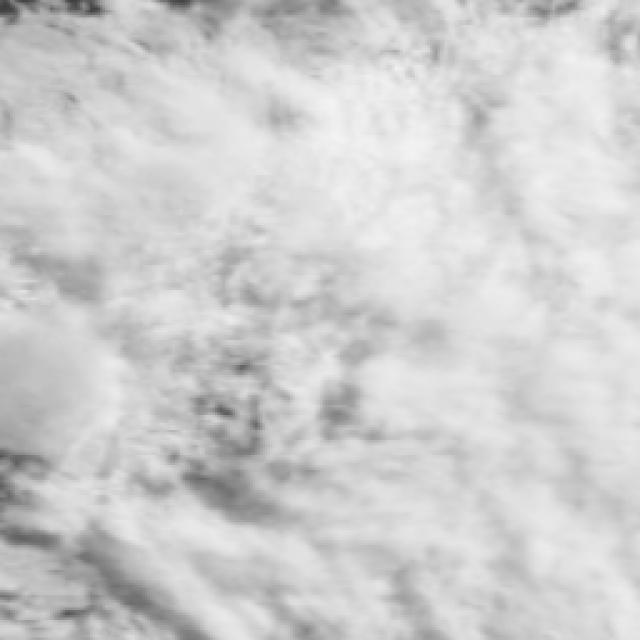CB: (398, 233, 640, 467), (55, 62, 307, 250), (350, 71, 616, 229), (356, 494, 640, 640), (5, 258, 146, 457)
